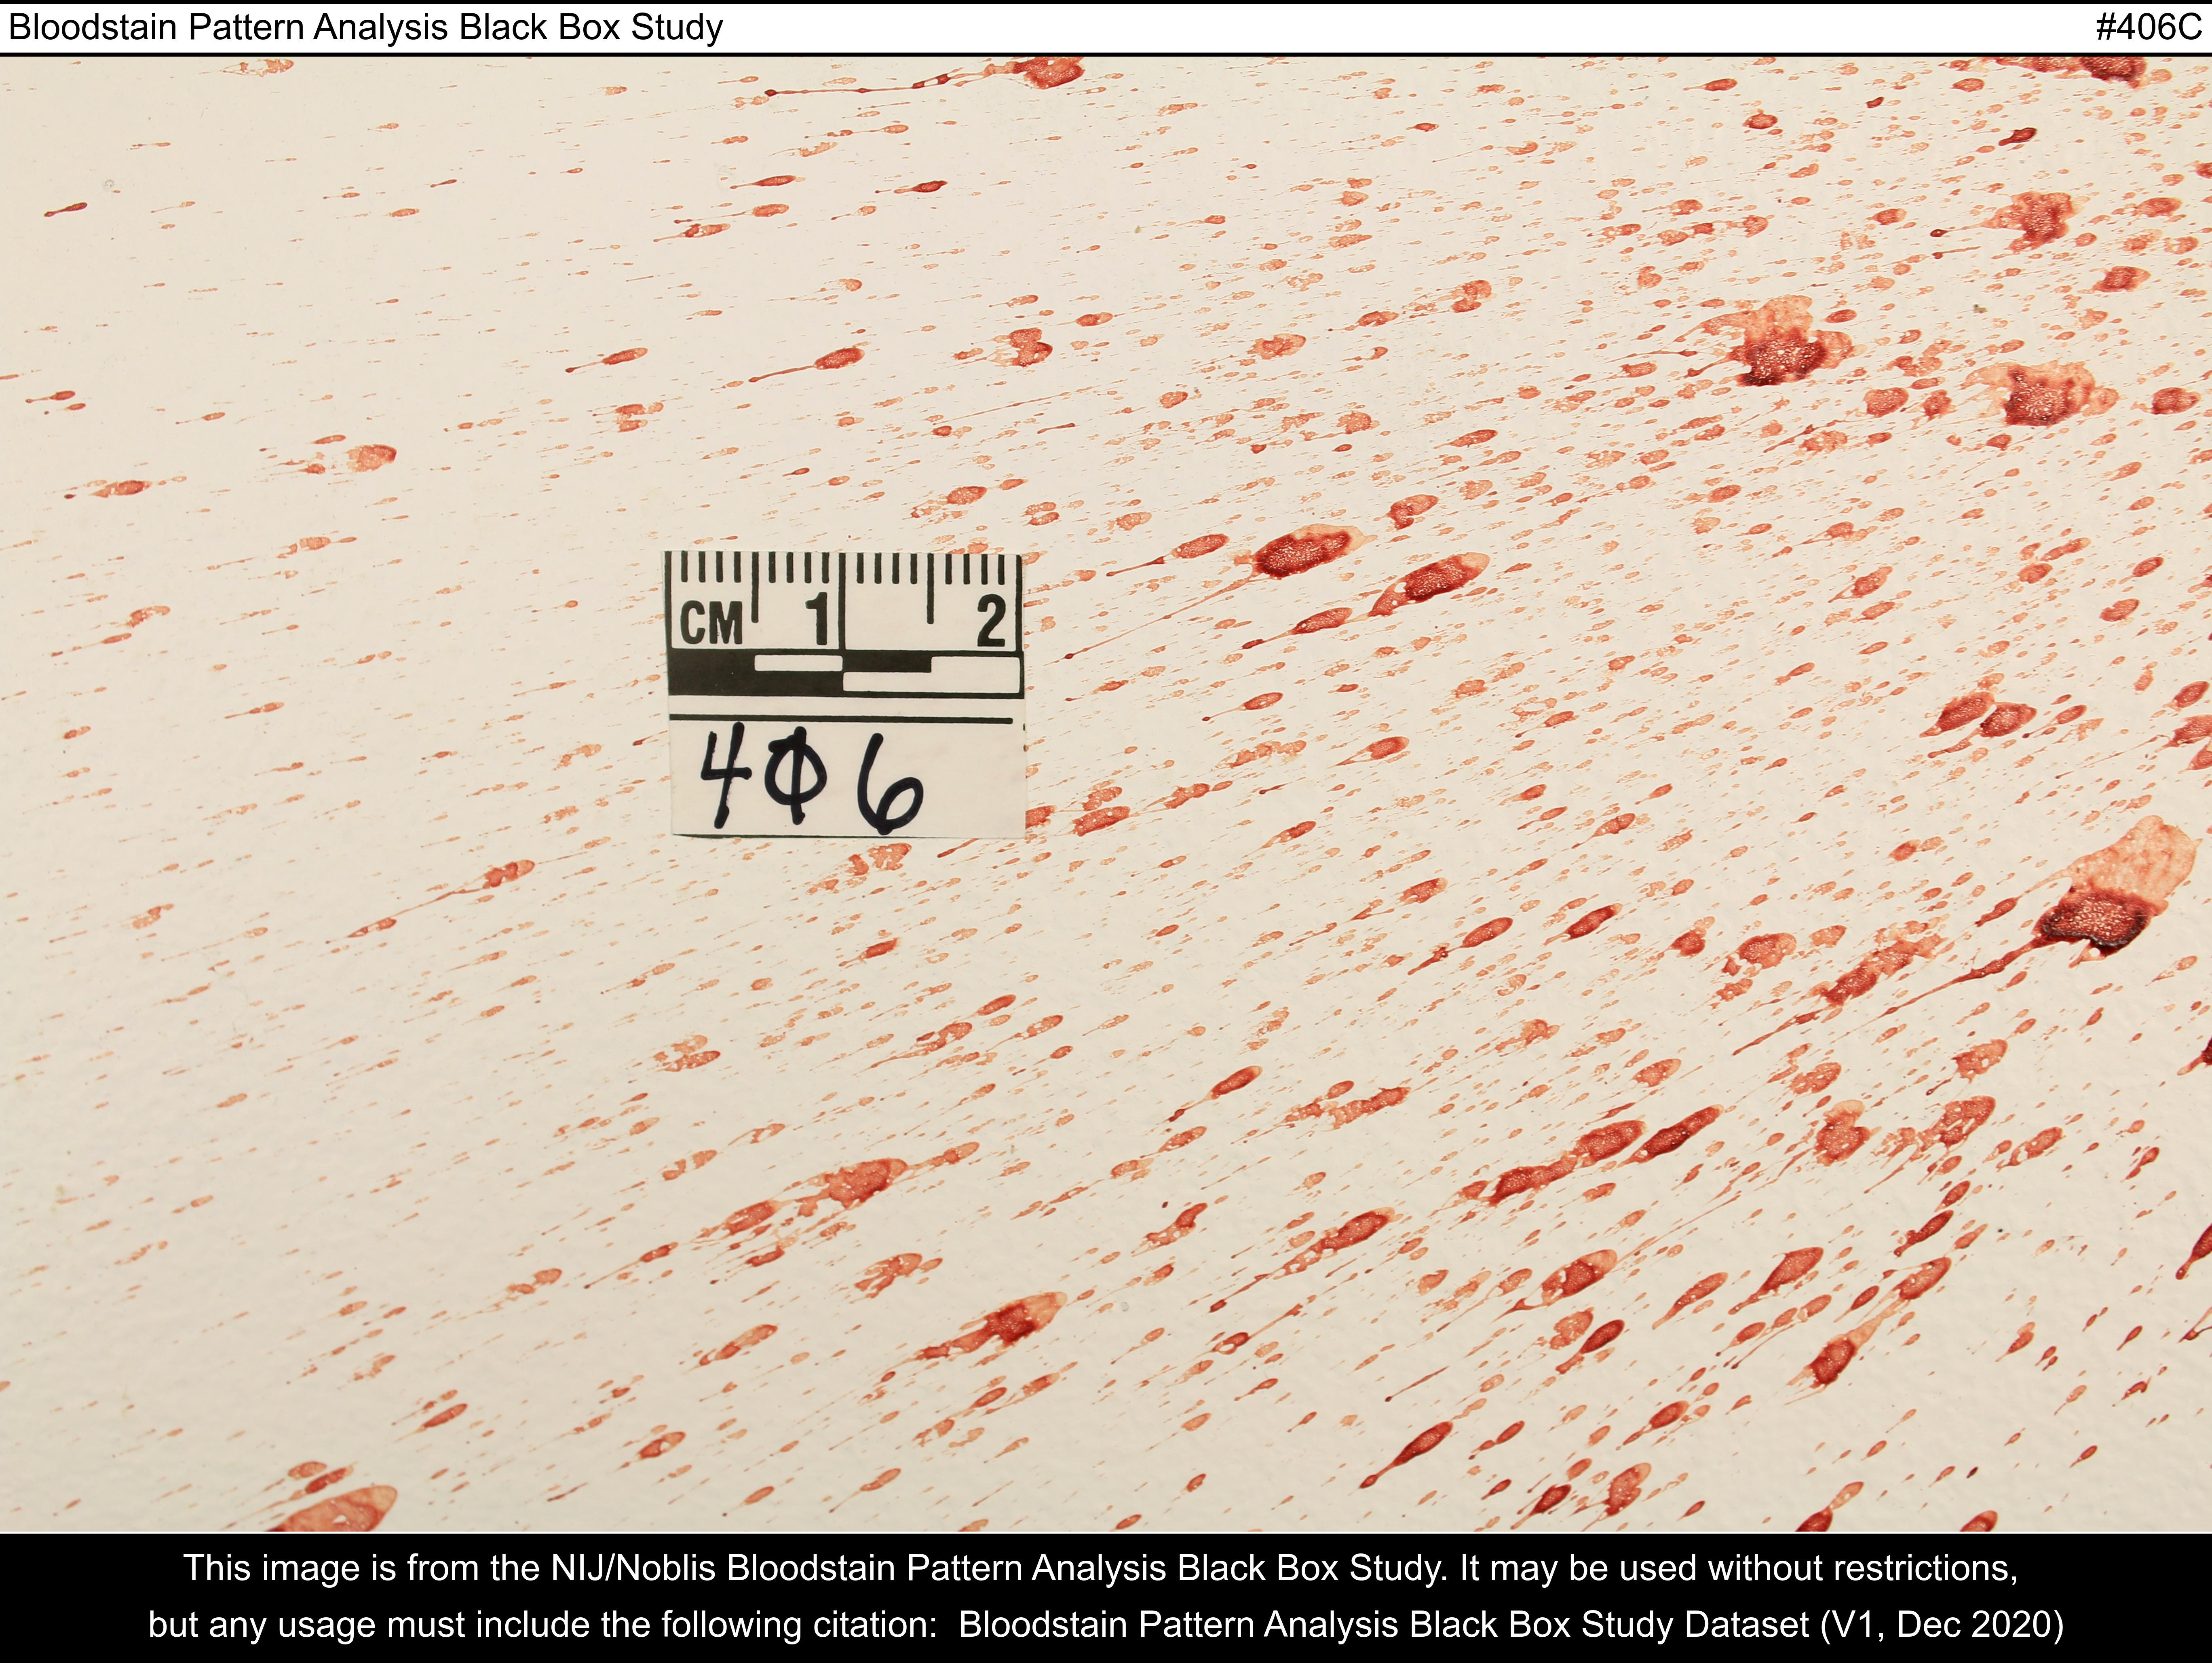Impact: (1048, 82, 2191, 1502)
